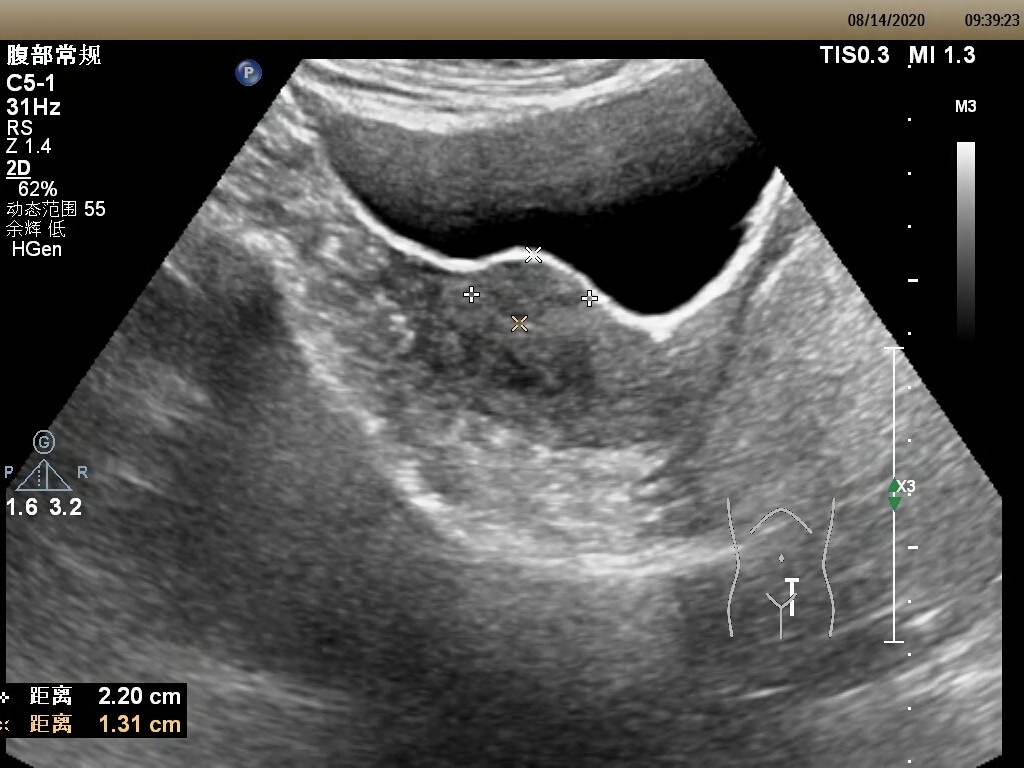肌瘤: (474, 257, 583, 319)
